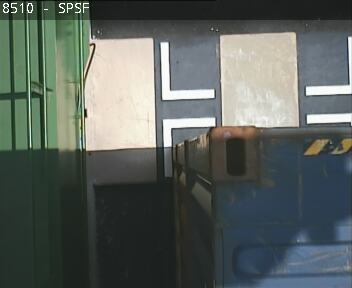groundmarker_1: (160, 42, 214, 177)
